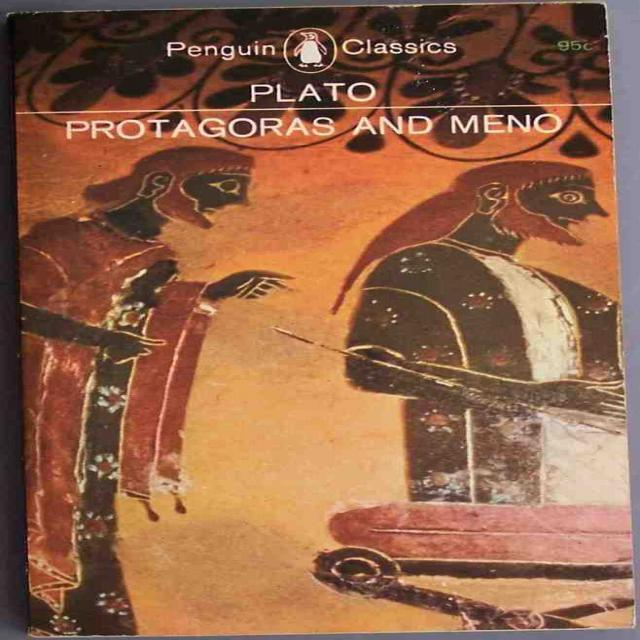book: (8, 8, 636, 640)
